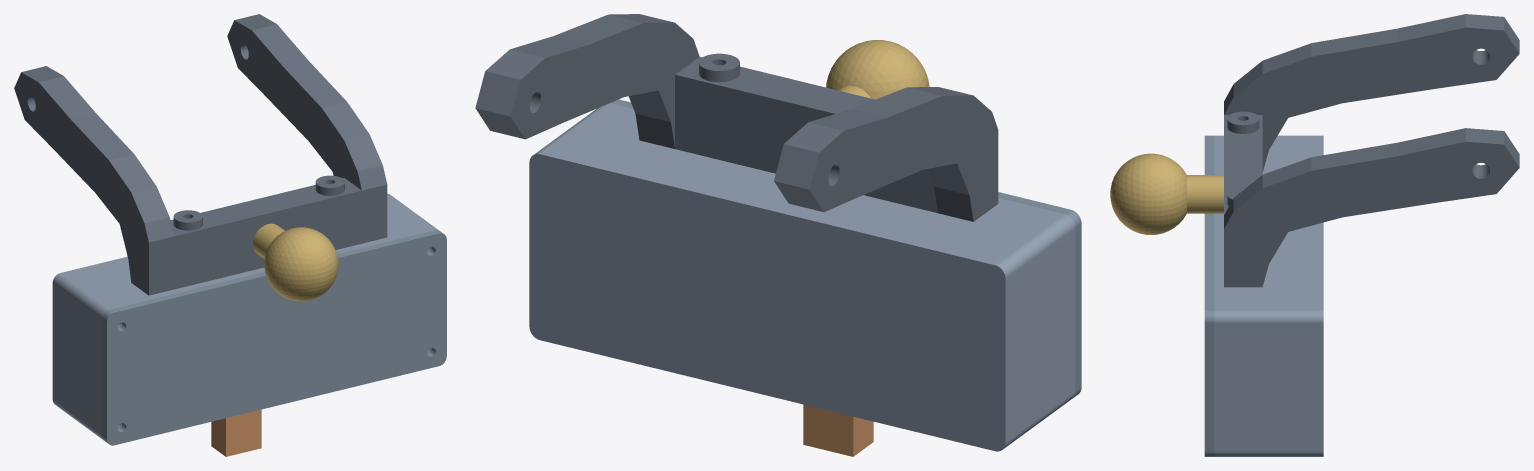
File: assembly_DRAFT.glb
3 renders of one model, left to right at view 1: azimuth 30°, elevation 25°; view 2: azimuth 150°, elevation 25°; view 3: azimuth 270°, elevation 25°, orthographic. The views are drawn at different scales.
Parts seen in each view (by area): view 1: lid, bracket, enclosure, ball_hardware_reference, usb_plug_envelope_reference; view 2: enclosure, bracket, ball_hardware_reference, usb_plug_envelope_reference, lid; view 3: bracket, enclosure, ball_hardware_reference, lid.
Part boxes in pixels (<box>): lid: <box>102,230,446,445</box>; bracket: <box>14,14,387,295</box>; enclosure: <box>52,193,438,440</box>; ball_hardware_reference: <box>253,223,338,301</box>; usb_plug_envelope_reference: <box>211,409,261,456</box>; enclosure: <box>529,103,1075,451</box>; bracket: <box>475,14,998,221</box>; ball_hardware_reference: <box>826,40,929,99</box>; usb_plug_envelope_reference: <box>803,404,873,456</box>; lid: <box>610,99,1081,397</box>; bracket: <box>1224,14,1519,287</box>; enclosure: <box>1214,135,1323,456</box>; ball_hardware_reference: <box>1110,153,1223,234</box>; lid: <box>1204,135,1214,456</box>.
Bounding box in the file's own units: 0.134 × 0.12 × 0.1274.
